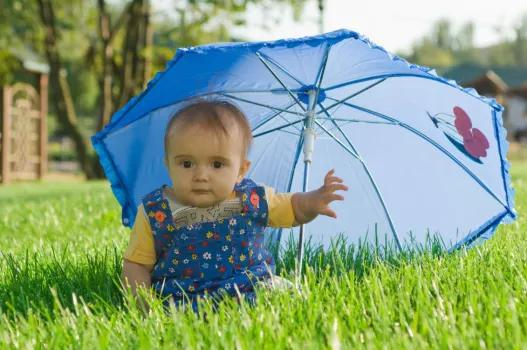child: (101, 98, 343, 311)
